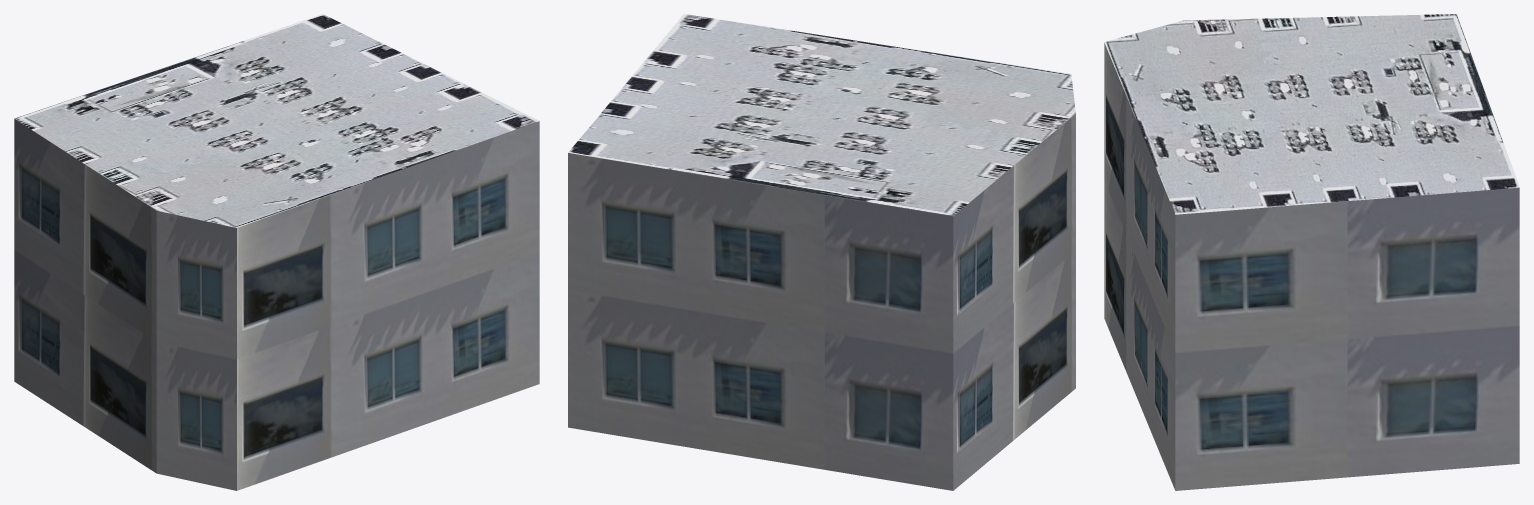
File: ResTex__2751.fbx
The picture shows the model from 3 angles, left to right: view 1: azimuth 30°, elevation 25°; view 2: azimuth 150°, elevation 25°; view 3: azimuth 270°, elevation 25°; orthographic projection. The views are drawn at different scales.
Visible parts, largest first — view 1: CityEngineMaterial_10_m, CityEngineMaterial_4_m; view 2: CityEngineMaterial_10_m, CityEngineMaterial_4_m; view 3: CityEngineMaterial_10_m, CityEngineMaterial_4_m.
Part boxes in pixels (x1=…): CityEngineMaterial_10_m: x1=14, y1=119, x2=539, y2=490; CityEngineMaterial_4_m: x1=14, y1=14, x2=539, y2=227; CityEngineMaterial_10_m: x1=568, y1=114, x2=1075, y2=490; CityEngineMaterial_4_m: x1=568, y1=14, x2=1075, y2=215; CityEngineMaterial_10_m: x1=1104, y1=43, x2=1519, y2=490; CityEngineMaterial_4_m: x1=1104, y1=14, x2=1519, y2=214.
Bounding box in the file's own units: 9.35 × 6 × 8.18.
2 materials, 2 textured.
